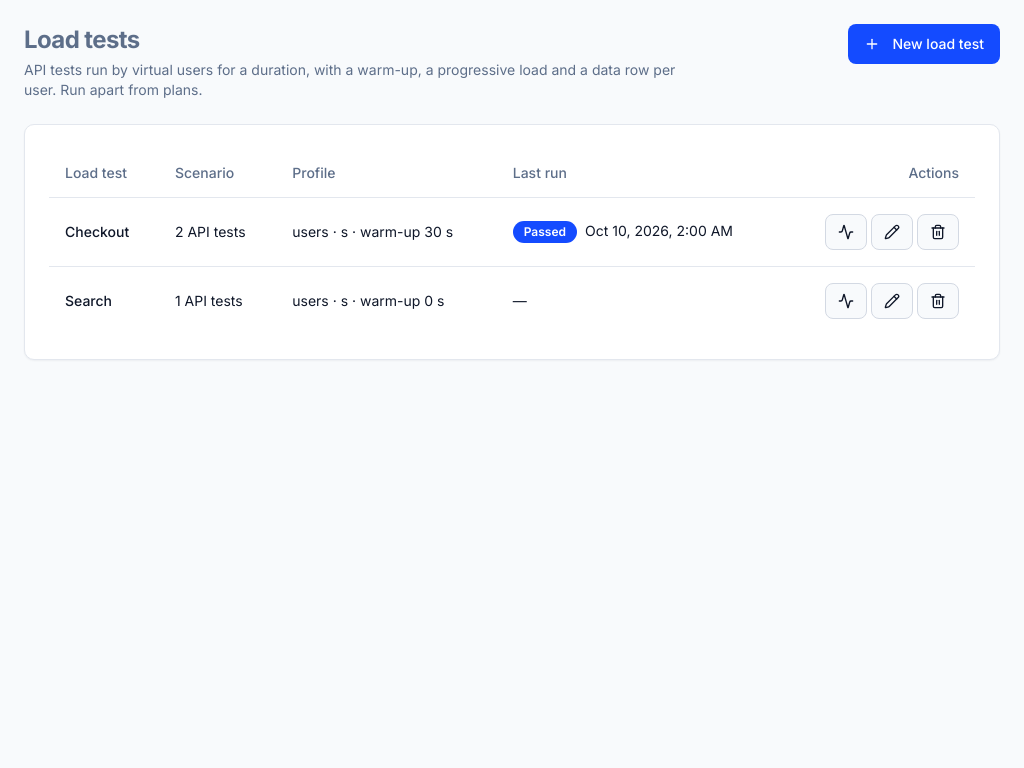
it: LoadTestsPage › asks before deleting and only then sends the delete
Expected: the row with test id "load-test-7" is shown, [49, 197, 975, 266]
Click the button named "Delete Checkout".
click(938, 232)  # box [917, 214, 959, 250]
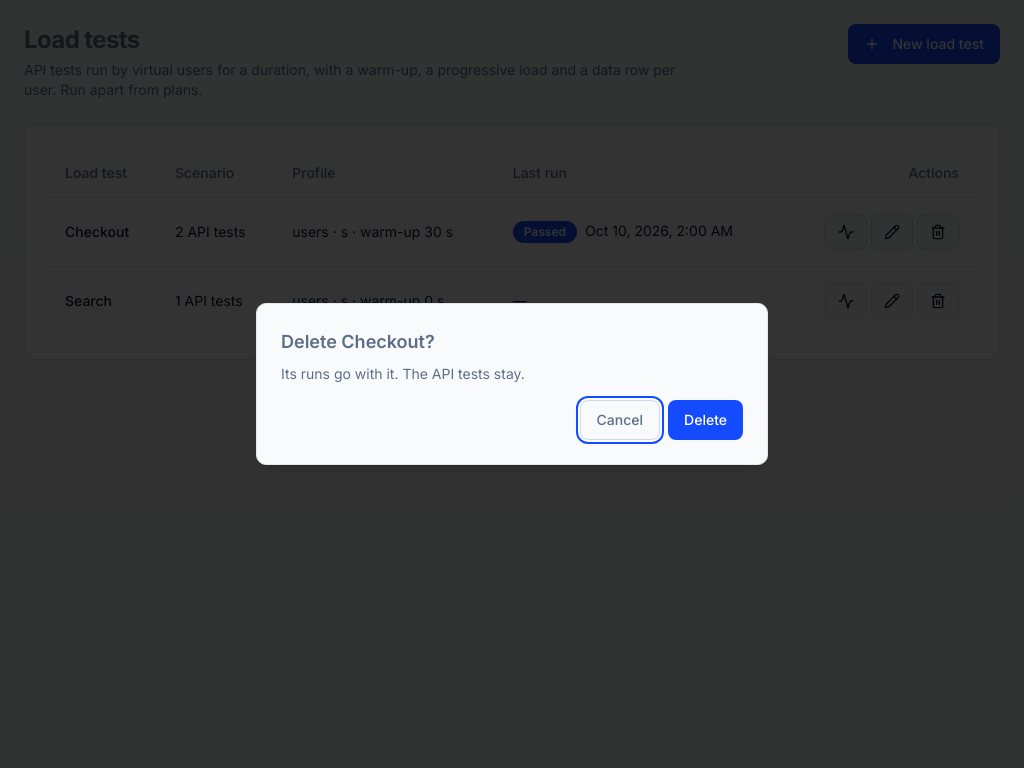
Result: the heading "Delete Checkout?" is shown at [281, 331, 435, 352]
Result: the text "Its runs go with it. The API tests stay." is shown at [281, 365, 525, 382]
Click the button "Delete".
click(706, 420)  # box [668, 400, 743, 440]
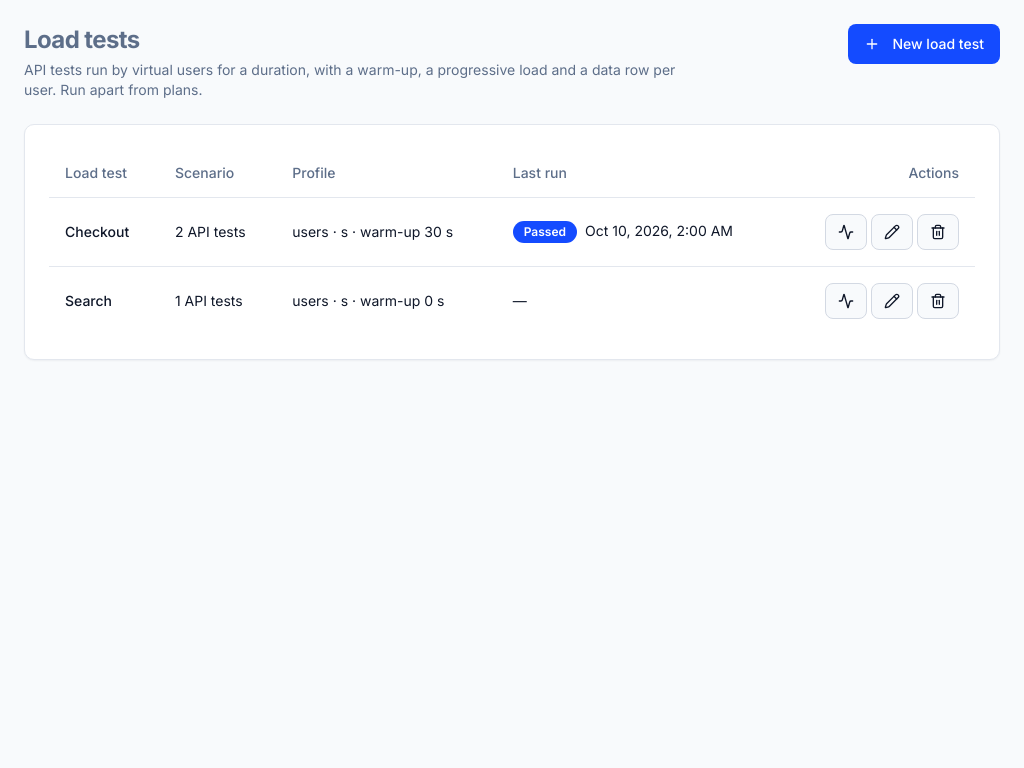
Result: the heading "Delete Checkout?" is gone
